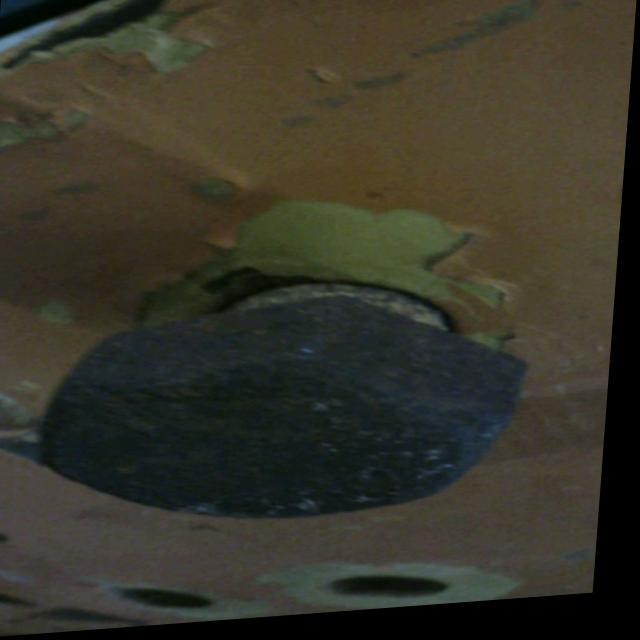Loose bolt: (43, 272, 539, 546)
Missing bolt: (337, 574, 473, 612), (118, 583, 230, 623), (1, 585, 50, 613)
Rusty bolt: (49, 276, 539, 537)
